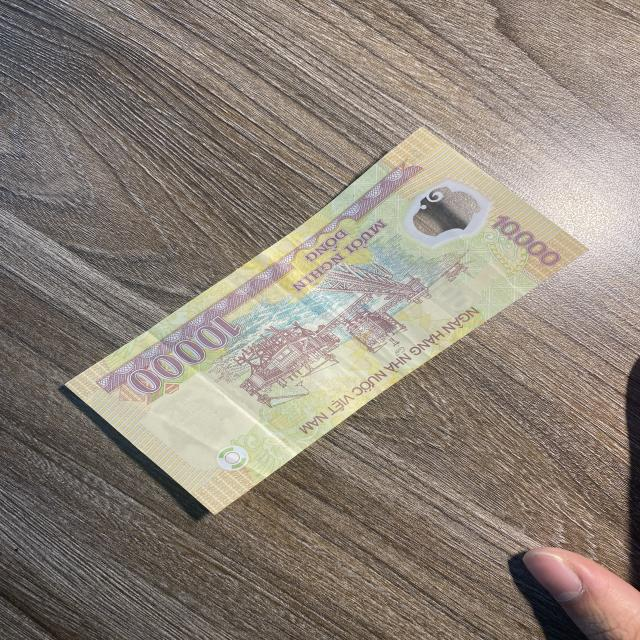10 000 VND: (61, 122, 594, 518)
